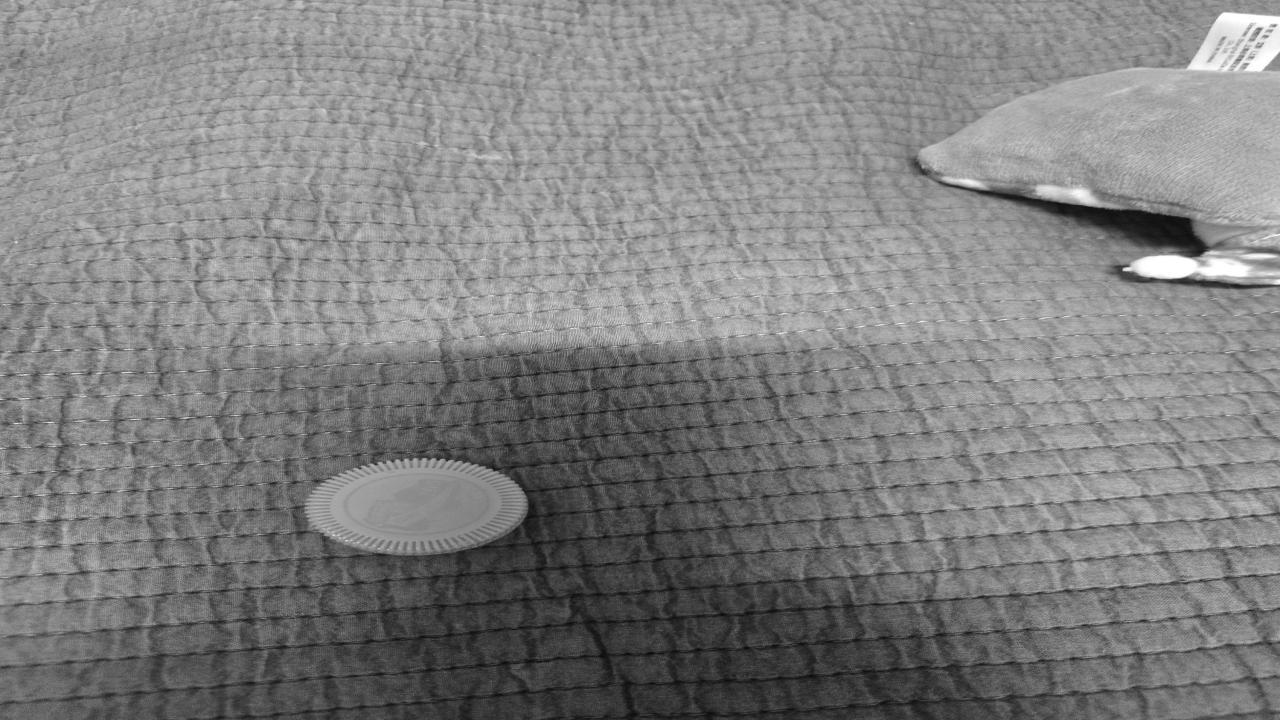bottle_cap: (312, 459, 529, 556)
